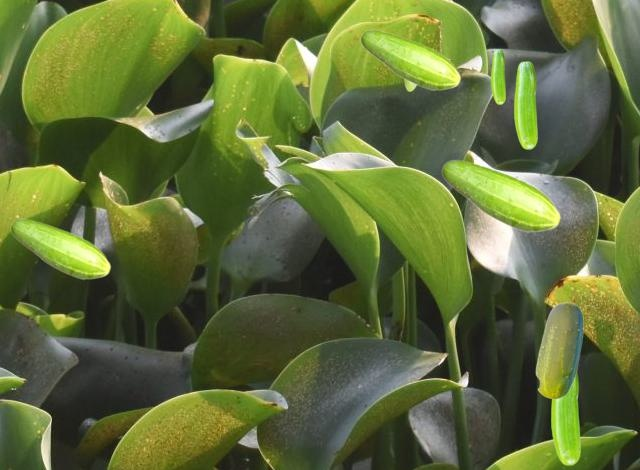cucumber: (441, 159, 560, 232), (10, 218, 110, 279), (360, 29, 460, 90), (535, 302, 582, 398), (551, 373, 579, 464), (514, 61, 536, 148), (491, 49, 504, 103), (404, 80, 416, 90)
